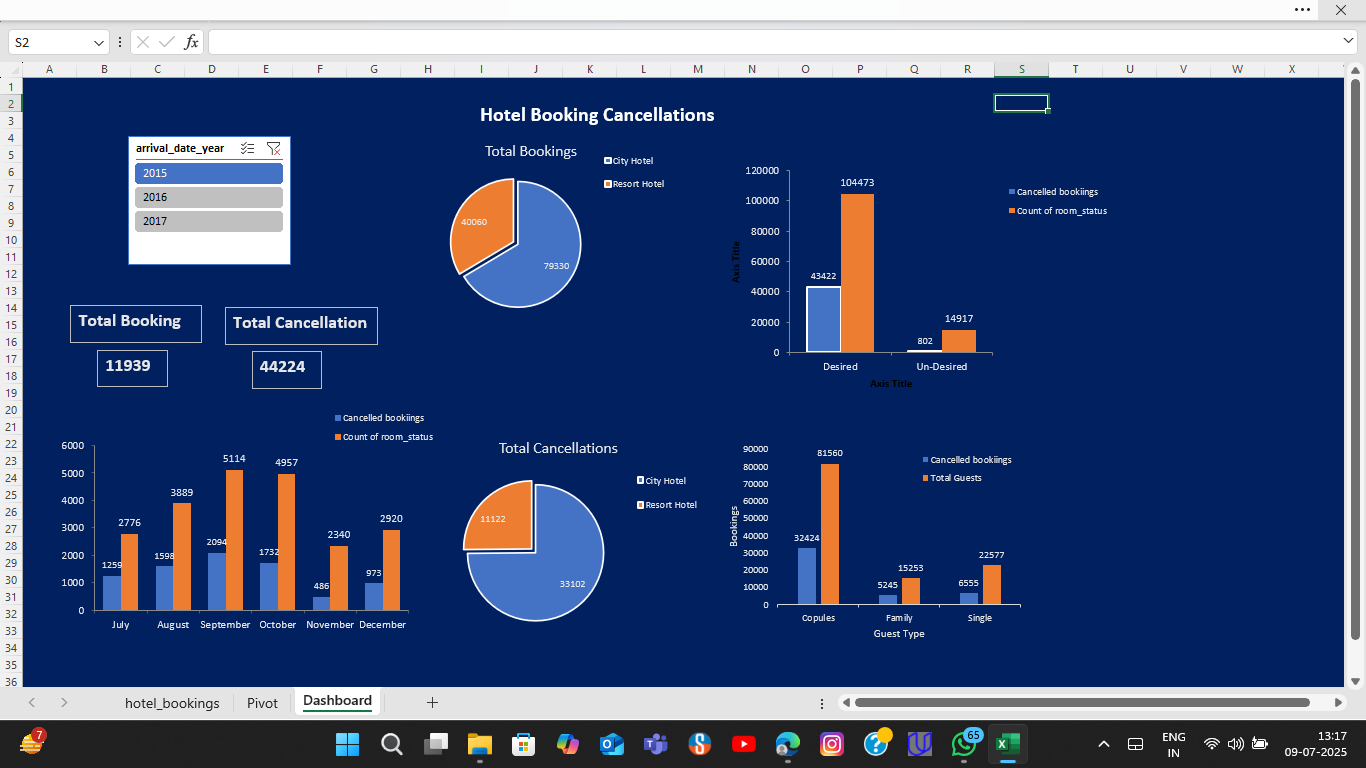

This screenshot's page, from the dashboard's own definition file:
{"tool":"powerbi","page":{"name":"Page 1","canvas":[1280,720],"ordinal":0},"visuals":[{"type":"pieChart","fields":{"Category":["hotel_bookings.hotel"],"Y":["Sum(hotel_bookings.is_canceled)"]},"box":[10,10.5,431.2,350],"z":0},{"type":"clusteredColumnChart","fields":{"Category":["hotel_bookings.guest_type","hotel_bookings.Status_of_room_alloted"],"Y":["Sum(hotel_bookings.adults)"]},"box":[10.5,360.6,546.9,279.4],"z":1000},{"type":"clusteredColumnChart","title":"Reserverd Room vs Assigned Room","fields":{"Category":["hotel_bookings.hotel","hotel_bookings.Status_of_room_alloted"],"Y":["CountNonNull(hotel_bookings.Status_of_room_alloted)"]},"box":[463.6,0,463.6,349.4],"z":2000},{"type":"clusteredColumnChart","fields":{"Category":["hotel_bookings.arrival_date_month","hotel_bookings.room_status"],"Y":["Sum(hotel_bookings.is_canceled)"]},"box":[557.6,349.8,722.9,348.3],"z":3000},{"type":"slicer","fields":{"Values":["hotel_bookings.arrival_date_year"]},"box":[957.1,43.9,276.6,283.9],"z":3001}]}

Visuals, with their boxes on the page's 1280x720 design canvas (x1, y1, x2, y2). These are canvas units, not pixel positions in the 1366x768 screenshot, which may show the page scaled, cropped or inside an application window:
pieChart - hotel_bookings.hotel x Sum(hotel_bookings.is_canceled): crop(10, 10, 441, 360)
clusteredColumnChart - hotel_bookings.guest_type x hotel_bookings.Status_of_room_alloted: crop(10, 361, 557, 640)
"Reserverd Room vs Assigned Room" clusteredColumnChart: crop(464, 0, 927, 349)
clusteredColumnChart - hotel_bookings.arrival_date_month x hotel_bookings.room_status: crop(558, 350, 1280, 698)
slicer - hotel_bookings.arrival_date_year: crop(957, 44, 1234, 328)
